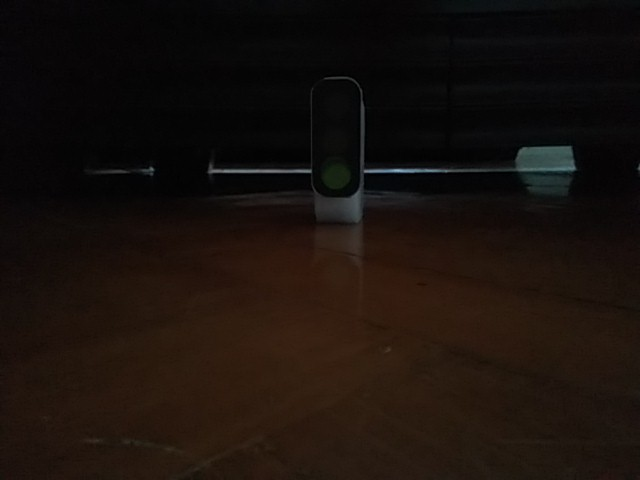Green Traffic Light: (311, 77, 364, 199)
